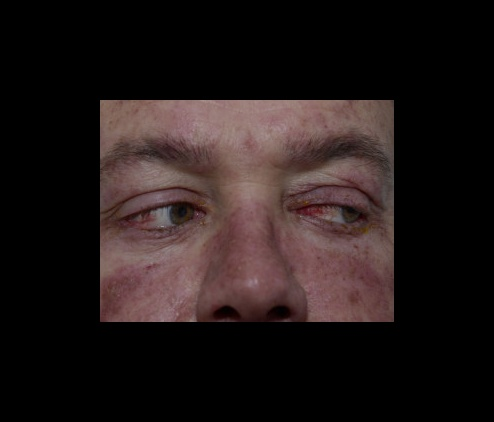SJS-TEN: (97, 99, 395, 323)
